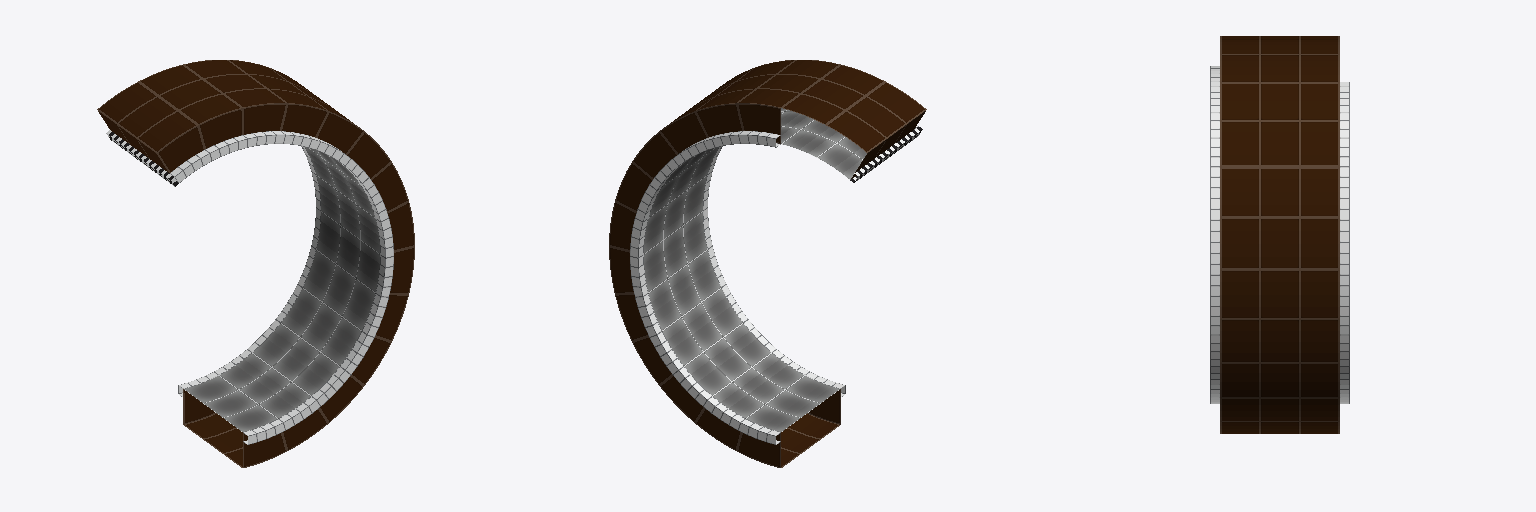
3 renders of one model, left to right at view 1: azimuth 30°, elevation 25°; view 2: azimuth 150°, elevation 25°; view 3: azimuth 270°, elevation 25°, orthographic.
Visible parts, largest first — view 1: SkytreeConstructionArc; view 2: SkytreeConstructionArc; view 3: SkytreeConstructionArc.
Part boxes in pixels (left/top/right/bottom): SkytreeConstructionArc: left=97, top=60, right=414, bottom=467; SkytreeConstructionArc: left=609, top=60, right=926, bottom=467; SkytreeConstructionArc: left=1210, top=36, right=1349, bottom=433.
Size of the model in its own units: 15 by 20 by 7.
Materials: 4 (4 with a texture image).